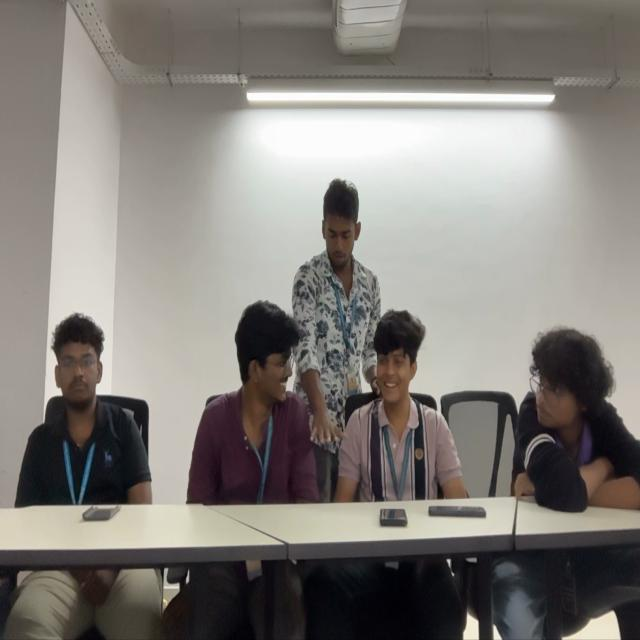Isolated: (18, 310, 151, 505), (509, 324, 640, 509)
socializing: (188, 170, 465, 509)
